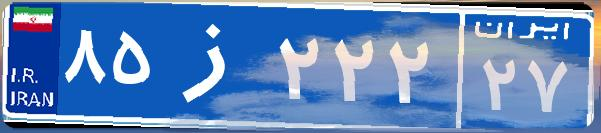2: (385, 28, 445, 110), (273, 28, 330, 110), (330, 28, 385, 110), (475, 38, 525, 113)
5: (110, 28, 158, 105)
7: (525, 38, 570, 115)
8: (57, 26, 110, 107)
ز: (158, 15, 273, 115)
